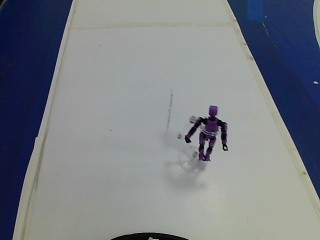pedestrian: (181, 101, 231, 163)
